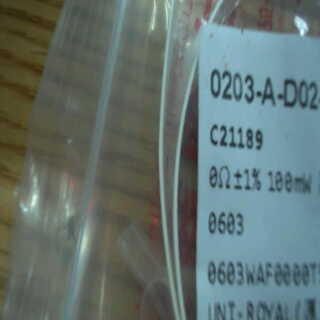0R: (208, 159, 315, 246)
